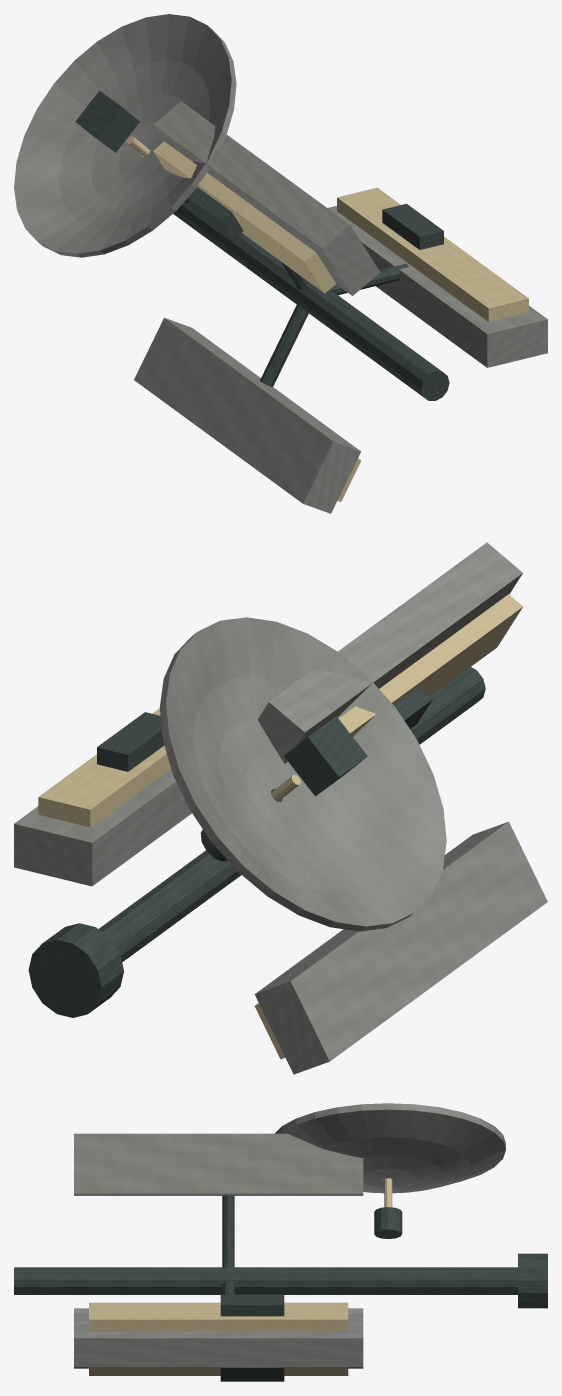
The model's file is PZ_RAD_02_Modular_Sector_Dish_Antenna_Assembly.glb.
3 renders of one model, top to bottom at view 1: azimuth 30°, elevation 25°; view 2: azimuth 150°, elevation 25°; view 3: azimuth 270°, elevation 25°, orthographic. The views are drawn at different scales.
Parts seen in each view (by area): view 1: ANT_Microwave_ParabolicDish_1p18m, ANT_SectorAntenna_3_Radome_1p45m, ANT_SectorAntenna_2_Radome_1p45m, ANT_Antenna_Frame_UpperMast, ANT_SectorAntenna_1_Radome_1p45m, ANT_SectorAntenna_1_BackRail, ANT_SectorAntenna_2_BackRail, ANT_Sector_Array_Three_Independent_Brackets, ANT_Microwave_BackSupport, ANT_SectorAntenna_1_NarrowMount, ANT_SectorAntenna_2_NarrowMount; view 2: ANT_Microwave_ParabolicDish_1p18m, ANT_SectorAntenna_3_Radome_1p45m, ANT_SectorAntenna_2_Radome_1p45m, ANT_SectorAntenna_1_Radome_1p45m, ANT_Antenna_Frame_UpperMast, ANT_Bottom_Mount_Collar, ANT_SectorAntenna_2_BackRail, ANT_SectorAntenna_1_BackRail, ANT_Microwave_BackSupport, ANT_SectorAntenna_1_NarrowMount, ANT_SectorAntenna_2_NarrowMount; view 3: ANT_SectorAntenna_2_Radome_1p45m, ANT_Antenna_Frame_UpperMast, ANT_Microwave_ParabolicDish_1p18m, ANT_SectorAntenna_1_Radome_1p45m, ANT_SectorAntenna_1_BackRail, ANT_SectorAntenna_3_BackRail, ANT_Bottom_Mount_Collar, ANT_SectorAntenna_1_NarrowMount, ANT_Sector_Array_Three_Independent_Brackets, ANT_SectorAntenna_3_NarrowMount, ANT_Microwave_FeedHorn.
Part boxes in pixels (left/top/right/bottom): ANT_Microwave_ParabolicDish_1p18m: left=14, top=14, right=236, bottom=257; ANT_SectorAntenna_3_Radome_1p45m: left=134, top=317, right=361, bottom=513; ANT_SectorAntenna_2_Radome_1p45m: left=153, top=101, right=380, bottom=295; ANT_Antenna_Frame_UpperMast: left=173, top=203, right=449, bottom=400; ANT_SectorAntenna_1_Radome_1p45m: left=327, top=206, right=547, bottom=367; ANT_SectorAntenna_1_BackRail: left=337, top=187, right=528, bottom=321; ANT_SectorAntenna_2_BackRail: left=153, top=141, right=335, bottom=293; ANT_Sector_Array_Three_Independent_Brackets: left=260, top=261, right=408, bottom=386; ANT_Microwave_BackSupport: left=75, top=90, right=139, bottom=152; ANT_SectorAntenna_1_NarrowMount: left=382, top=203, right=443, bottom=249; ANT_SectorAntenna_2_NarrowMount: left=187, top=187, right=243, bottom=239; ANT_Microwave_ParabolicDish_1p18m: left=159, top=617, right=446, bottom=931; ANT_SectorAntenna_3_Radome_1p45m: left=254, top=821, right=547, bottom=1074; ANT_SectorAntenna_2_Radome_1p45m: left=257, top=542, right=522, bottom=763; ANT_SectorAntenna_1_Radome_1p45m: left=14, top=769, right=191, bottom=886; ANT_Antenna_Frame_UpperMast: left=98, top=667, right=485, bottom=961; ANT_Bottom_Mount_Collar: left=28, top=923, right=123, bottom=1017; ANT_SectorAntenna_2_BackRail: left=338, top=594, right=523, bottom=736; ANT_SectorAntenna_1_BackRail: left=38, top=708, right=170, bottom=827; ANT_Microwave_BackSupport: left=284, top=716, right=367, bottom=796; ANT_SectorAntenna_1_NarrowMount: left=97, top=712, right=164, bottom=771; ANT_SectorAntenna_2_NarrowMount: left=394, top=687, right=432, bottom=728; ANT_SectorAntenna_2_Radome_1p45m: left=74, top=1133, right=363, bottom=1195; ANT_Antenna_Frame_UpperMast: left=14, top=1267, right=517, bottom=1294; ANT_Microwave_ParabolicDish_1p18m: left=275, top=1103, right=505, bottom=1193; ANT_SectorAntenna_1_Radome_1p45m: left=74, top=1313, right=363, bottom=1366; ANT_SectorAntenna_1_BackRail: left=89, top=1302, right=348, bottom=1331; ANT_SectorAntenna_3_BackRail: left=89, top=1367, right=348, bottom=1375; ANT_Bottom_Mount_Collar: left=518, top=1253, right=547, bottom=1308; ANT_SectorAntenna_1_NarrowMount: left=220, top=1294, right=284, bottom=1316; ANT_Sector_Array_Three_Independent_Brackets: left=222, top=1195, right=234, bottom=1294; ANT_SectorAntenna_3_NarrowMount: left=220, top=1367, right=284, bottom=1381; ANT_Microwave_FeedHorn: left=374, top=1207, right=402, bottom=1238.
Size of the model in its own units: 1.61 by 1.61 by 2.67.
1 material, 1 textured.
